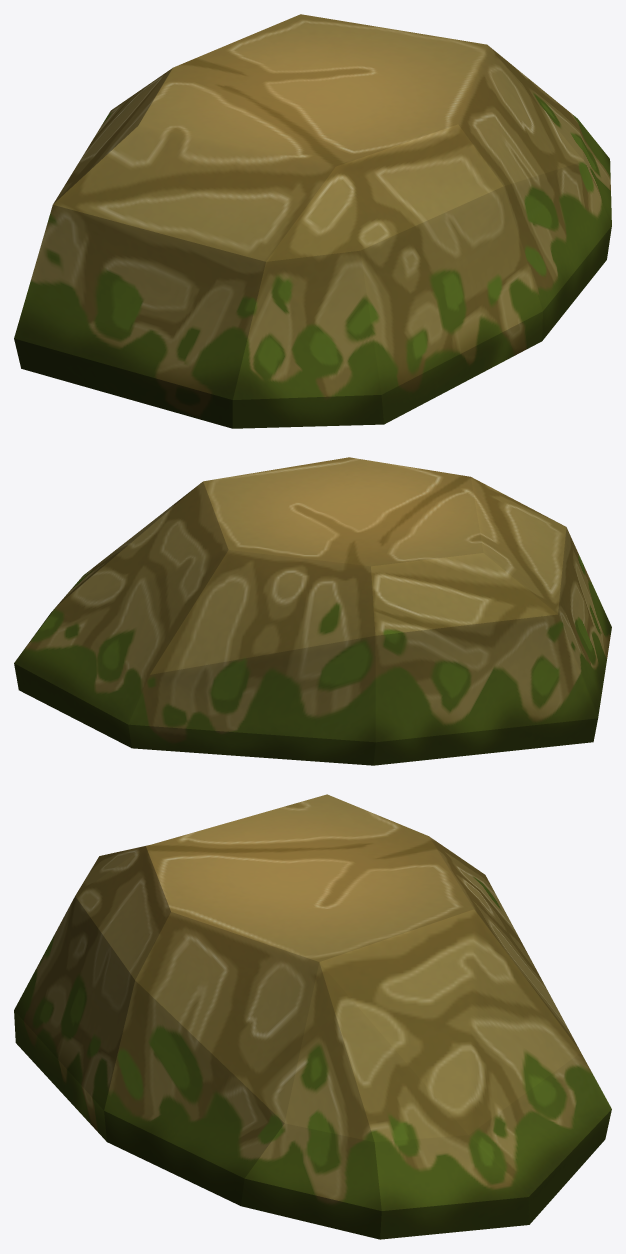
Rendered from Rock1.FBX.
3 views of the same model, one above another, from view 1: azimuth 30°, elevation 25°; view 2: azimuth 150°, elevation 25°; view 3: azimuth 270°, elevation 25° (orthographic). The views are drawn at different scales.
Visible parts, largest first — view 1: Rock1; view 2: Rock1; view 3: Rock1.
Boxes of the visible parts, bbox=[...] form: Rock1: bbox=[14, 14, 611, 428]; Rock1: bbox=[14, 457, 611, 765]; Rock1: bbox=[14, 794, 611, 1239].
Size of the model in its own units: 49.24 by 15.36 by 40.57.
Materials: 1 (1 with a texture image).
